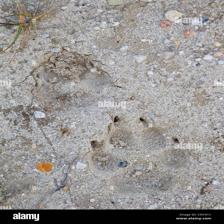wolf: (86, 112, 192, 196)
